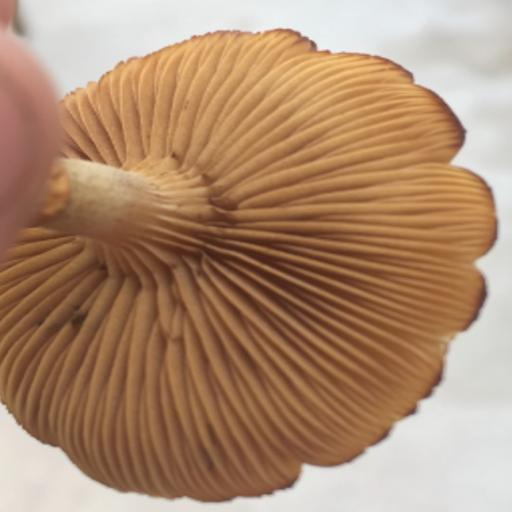mushroom: (20, 23, 495, 507)
